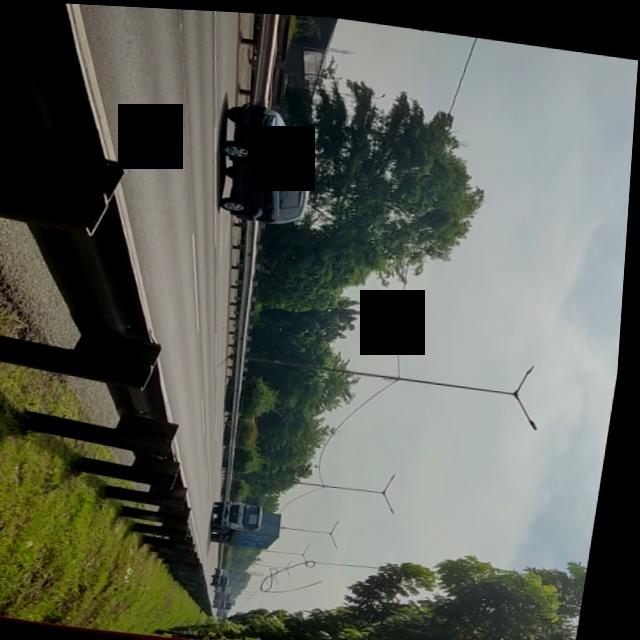Golongan I: (210, 93, 335, 231)
